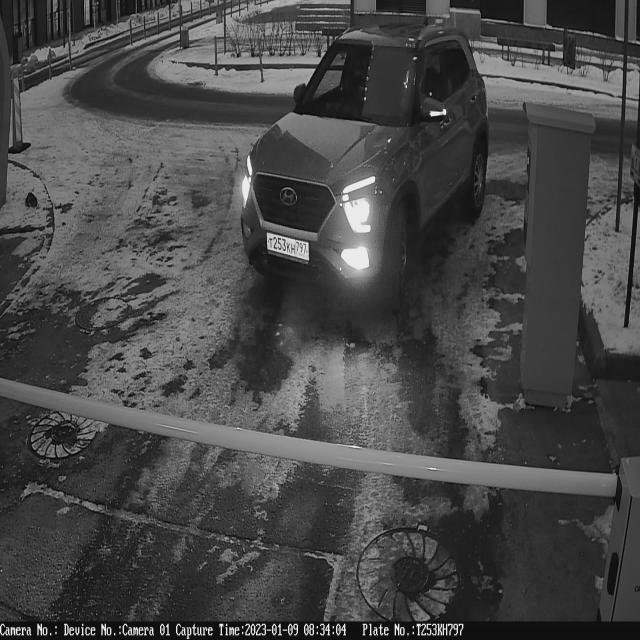car-plate-numbers: (264, 227, 312, 265)
